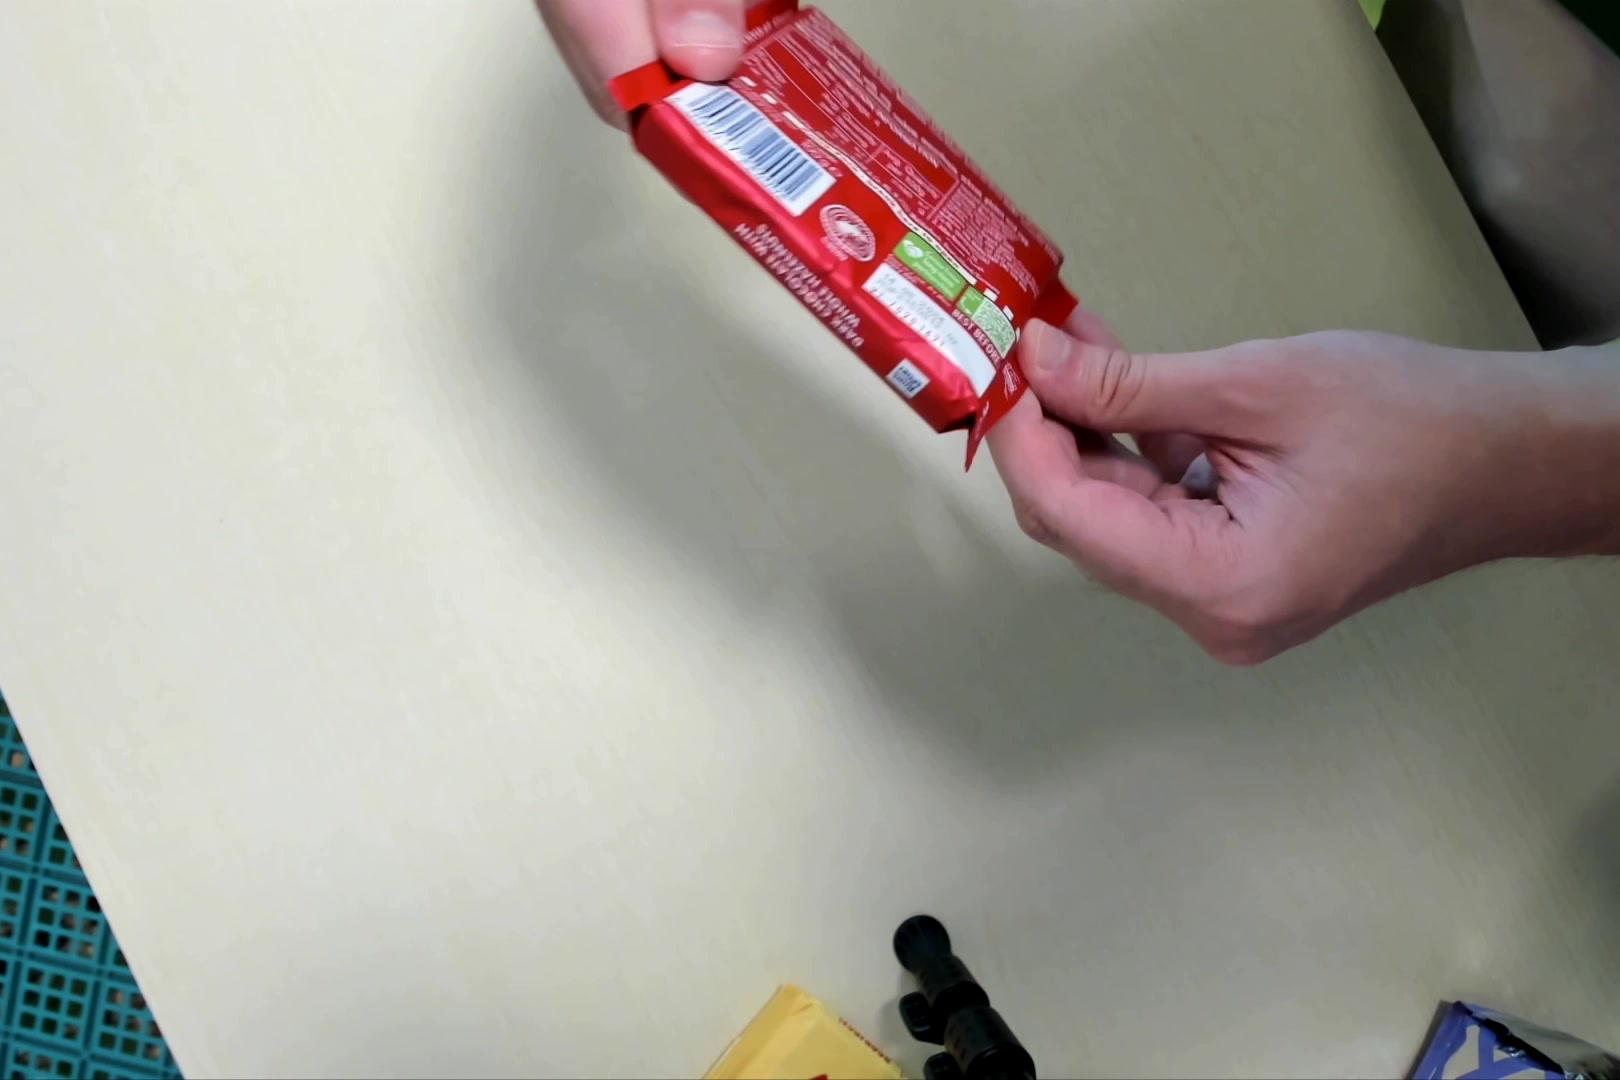SweetsChocolatesOthers_100-199g_NonHalal_NonHealthy: (615, 6, 1082, 430)
